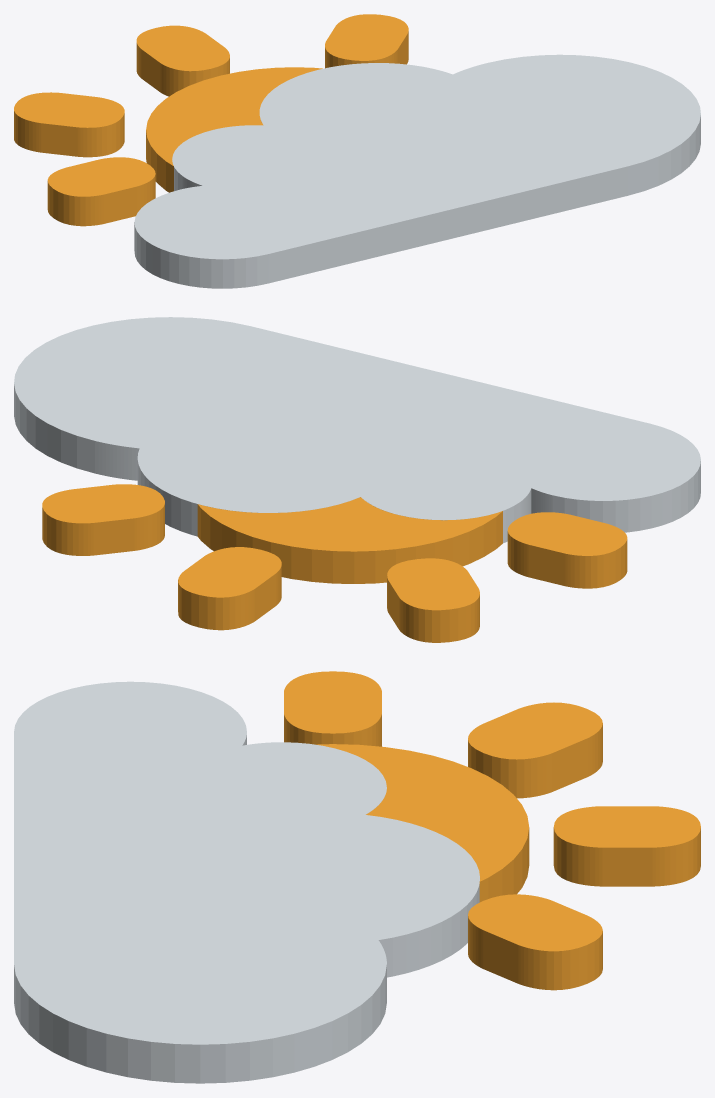
The model's file is sunnycloud.gltf.
3 renders of one model, top to bottom at view 1: azimuth 30°, elevation 25°; view 2: azimuth 150°, elevation 25°; view 3: azimuth 270°, elevation 25°, orthographic. The views are drawn at different scales.
Parts seen in each view (by area): view 1: Curve.002, Curve, Curve.001; view 2: Curve.002, Curve, Curve.001; view 3: Curve.002, Curve, Curve.001.
Boxes of the visible parts, x1=… form: Curve.002: x1=134, y1=54, x2=700, y2=288; Curve: x1=14, y1=14, x2=408, y2=226; Curve.001: x1=146, y1=67, x2=322, y2=192; Curve.002: x1=14, y1=317, x2=700, y2=543; Curve: x1=42, y1=484, x2=627, y2=642; Curve.001: x1=197, y1=497, x2=502, y2=583; Curve.002: x1=14, y1=681, x2=479, y2=1083; Curve: x1=284, y1=671, x2=700, y2=990; Curve.001: x1=316, y1=744, x2=529, y2=902.
Size of the model in its own units: 2.06 by 0.1 by 1.6.
